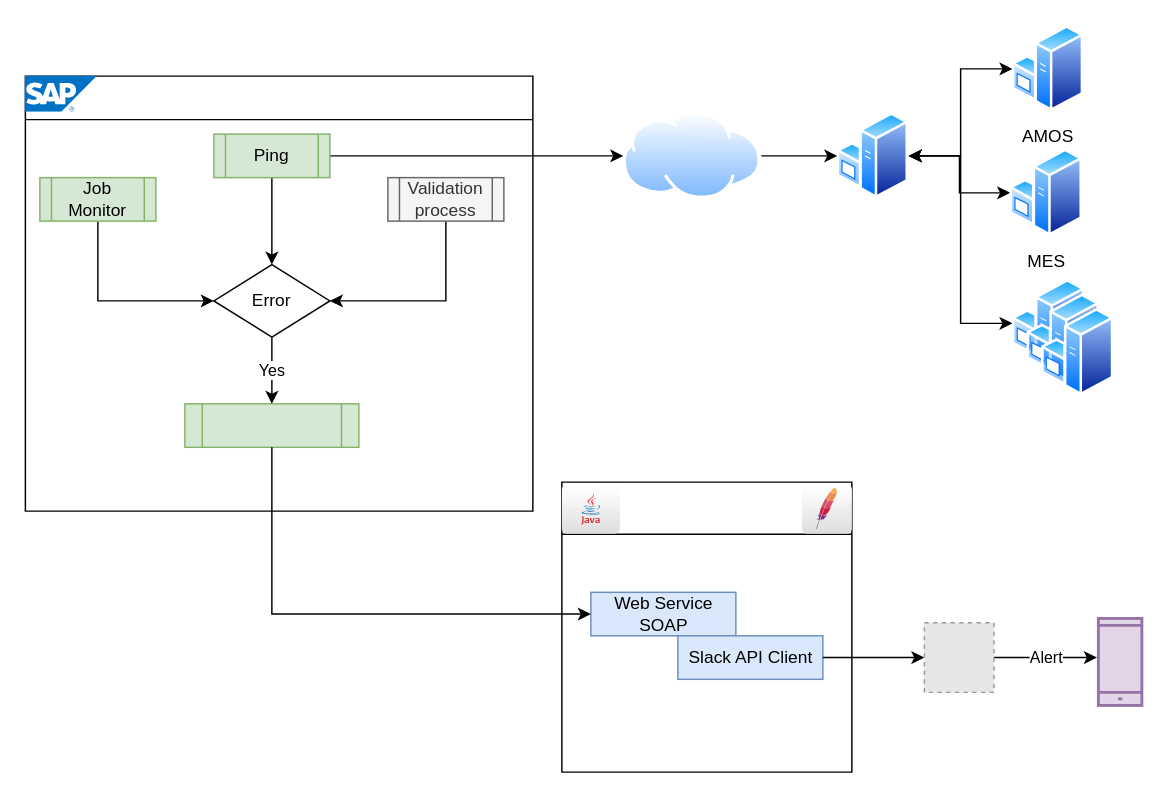
The diagram is 1169 pixels wide and 798 high, and some of its shapes have lost their labels. Grey dashed boxes stand in for pictures. The shapes that lost their labels are listed below. From the top down, each one's box as (x1, y1, x2, y2) in pixels, then its label:
(837, 112, 908, 199): EAI
(24, 75, 533, 511): ERP
(183, 402, 359, 447): SOAP Message
(560, 481, 852, 772): Alerts Server
